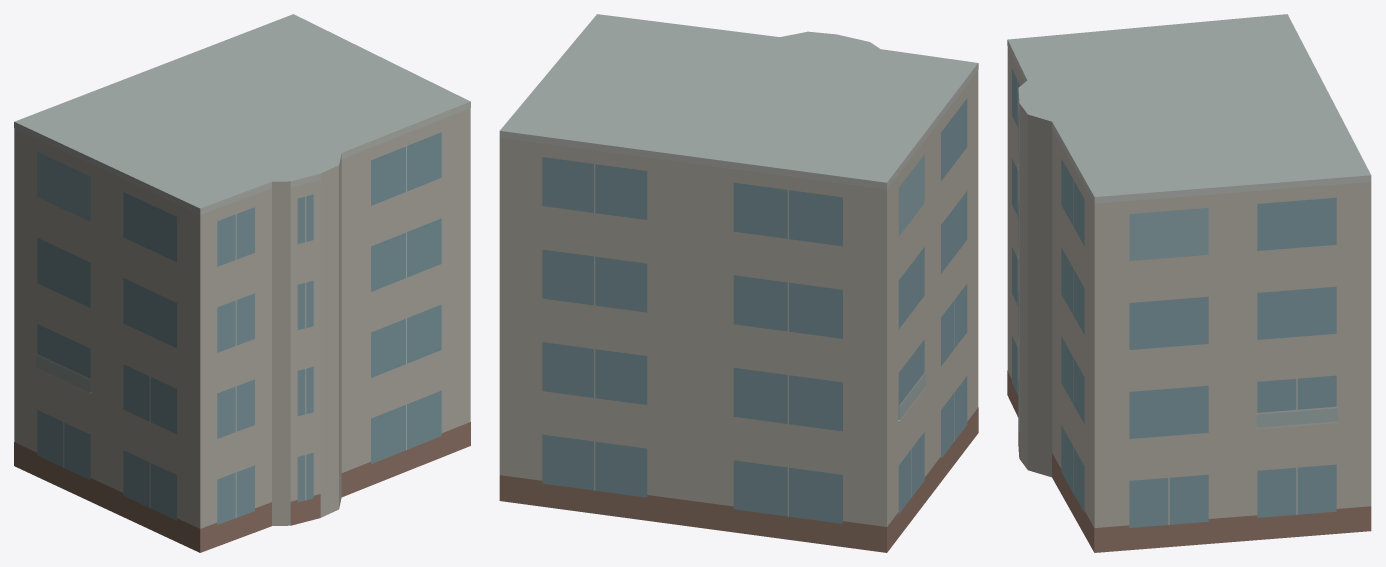
Rendered from survey-upis-32736876.glb.
3 views of the same model, side by side, from view 1: azimuth 30°, elevation 25°; view 2: azimuth 150°, elevation 25°; view 3: azimuth 270°, elevation 25° (orthographic). The views are drawn at different scales.
Parts seen in each view (by area): view 1: survey-upis-32736876.tmp; view 2: survey-upis-32736876.tmp; view 3: survey-upis-32736876.tmp.
Boxes of the visible parts, <box> form: survey-upis-32736876.tmp: <box>14,14,470,552</box>; survey-upis-32736876.tmp: <box>499,14,978,552</box>; survey-upis-32736876.tmp: <box>1007,14,1371,552</box>.
Bounding box in the file's own units: 14.53 × 13.16 × 12.2.
